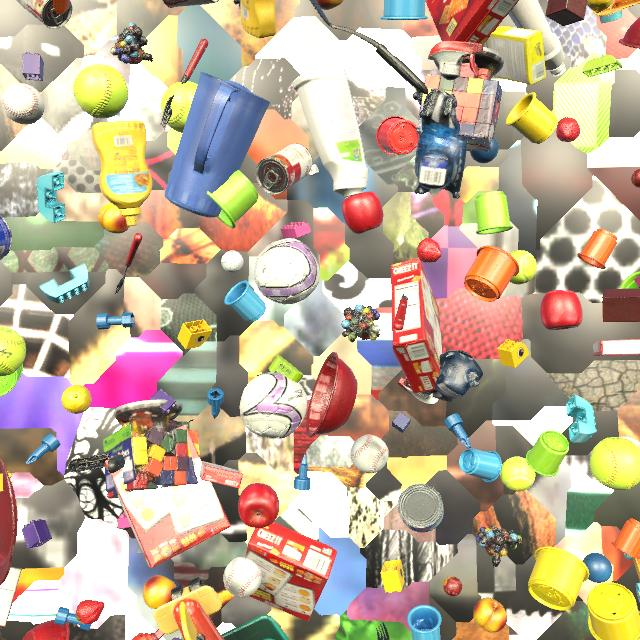ycb_002_master_chef_can: (0, 215, 12, 260)
ycb_003_cracker_box: (104, 425, 231, 568), (245, 522, 337, 622), (390, 258, 442, 393), (426, 0, 519, 45)
ycb_004_sugar_box: (483, 25, 546, 86)
ycb_005_tomato_soup_can: (255, 143, 313, 195), (16, 0, 72, 29), (163, 0, 219, 8)
ycb_006_mustard_bottle: (91, 120, 152, 226), (240, 0, 277, 38)
ycb_007_tuna_fish_can: (397, 484, 444, 532)
ycb_008_pudding_box: (0, 566, 22, 629)
ycb_009_gelatin_box: (200, 461, 244, 489), (593, 339, 640, 356)
ycb_012_strawberry: (75, 600, 104, 625), (556, 117, 580, 142), (417, 238, 441, 262)
ycb_013_apple: (238, 483, 279, 528), (342, 191, 383, 234), (540, 290, 583, 330)
ycb_014_lemon: (62, 385, 92, 414), (587, 0, 613, 13)
ycb_015_peach: (473, 598, 507, 633), (143, 575, 177, 609), (98, 203, 130, 234), (316, 0, 344, 10)
